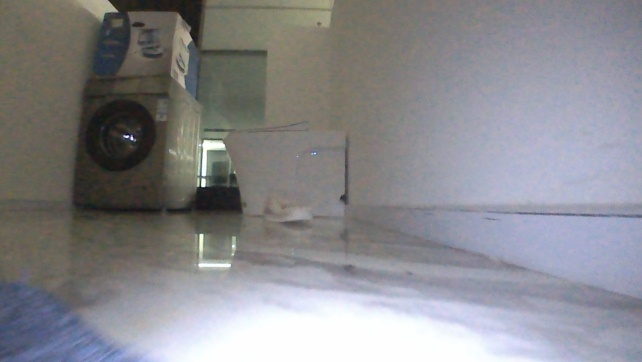toilet: (220, 118, 355, 225)
washing_machine: (71, 74, 204, 220)
